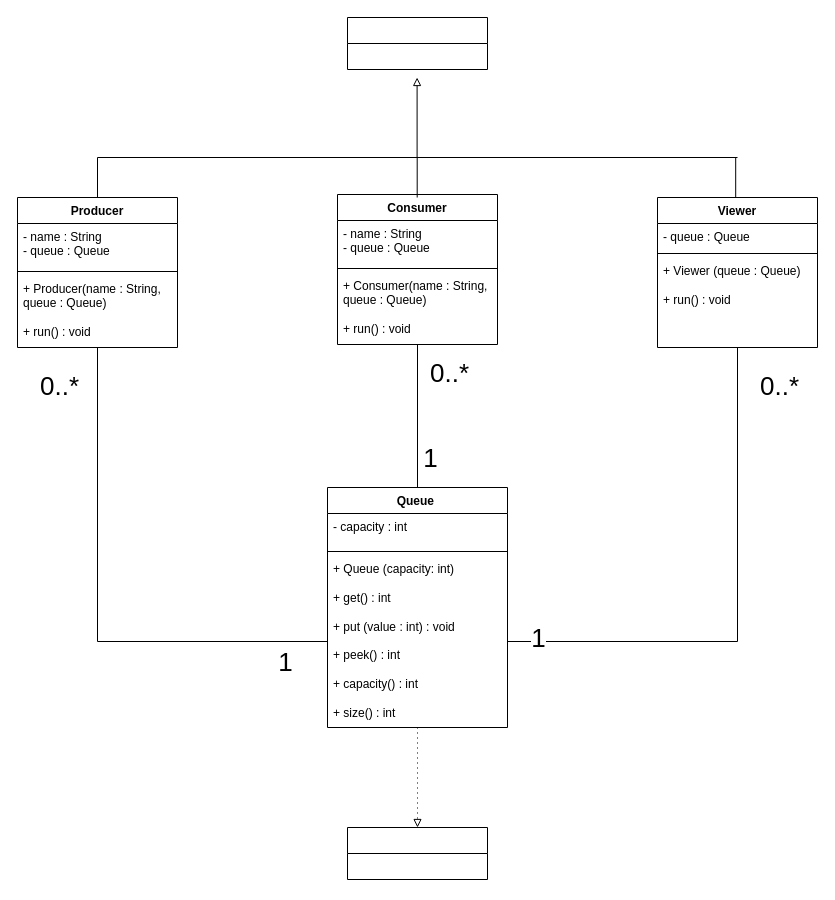
This 835x900 diagram has some shape labels left out. The shapes that lost their labels are listed below. From the top down, each one's centre as x and y in pixels, then its label:
the point at 417,43: Thread
the point at 417,853: BlockingQueue <<interface>>
